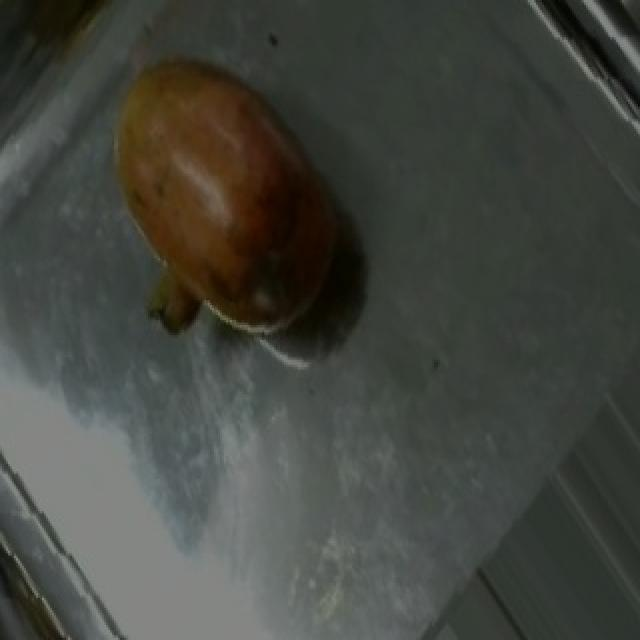fruit: (76, 30, 356, 315)
